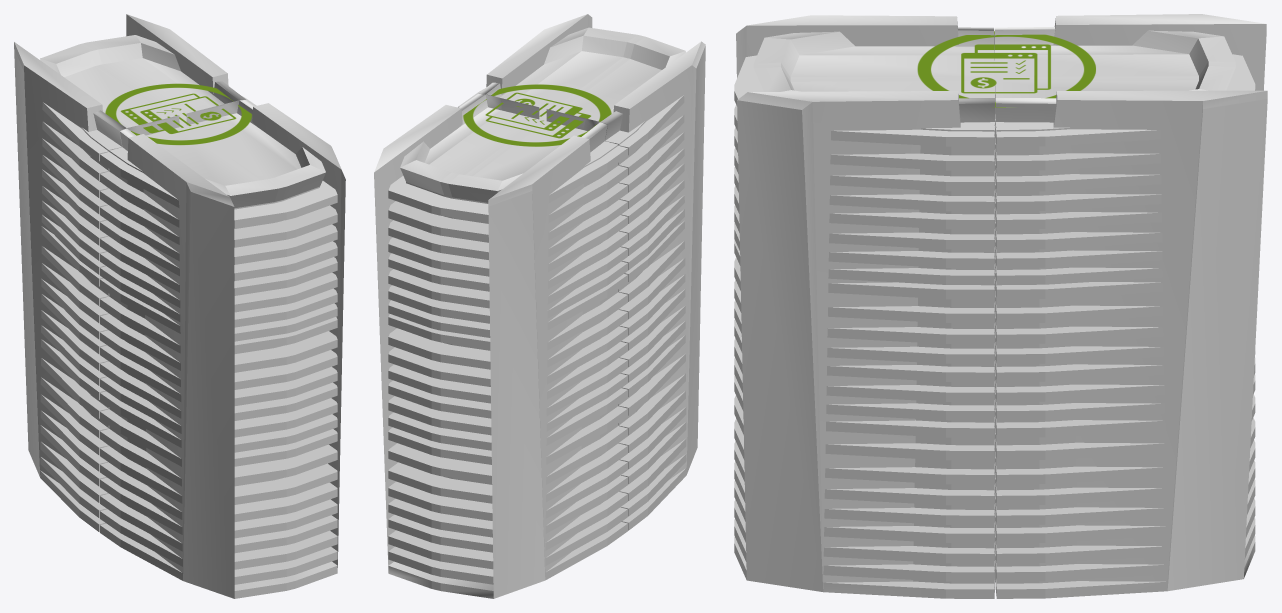
File: elevnth building.glb
3 views of the same model, side by side, from view 1: azimuth 30°, elevation 25°; view 2: azimuth 150°, elevation 25°; view 3: azimuth 270°, elevation 25° (orthographic). The views are drawn at different scales.
Visible parts, largest first — view 1: city buildings.windows.003, billing-icon-5; view 2: city buildings.windows.003, billing-icon-5; view 3: city buildings.windows.003, billing-icon-5.
Boxes of the visible parts, x1=… form: city buildings.windows.003: x1=14, y1=14, x2=345, y2=598; billing-icon-5: x1=105, y1=83, x2=251, y2=145; city buildings.windows.003: x1=374, y1=14, x2=705, y2=598; billing-icon-5: x1=463, y1=84, x2=611, y2=146; city buildings.windows.003: x1=734, y1=14, x2=1267, y2=598; billing-icon-5: x1=917, y1=31, x2=1096, y2=107.
Size of the model in its own units: 2.82 by 6.47 by 6.38.
Materials: 3 (1 with a texture image).
